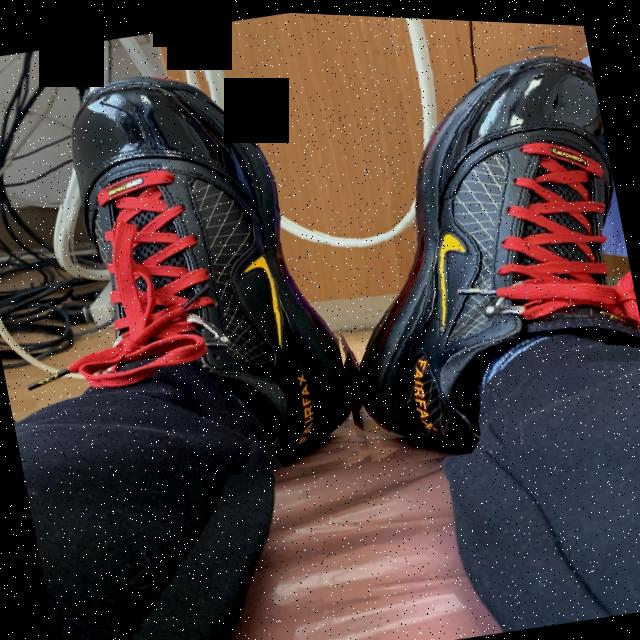shoe: (274, 15, 640, 477), (36, 41, 360, 500)
